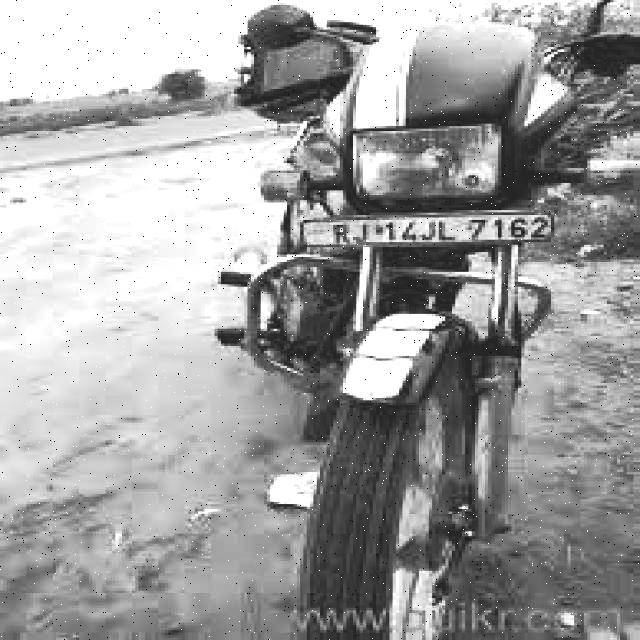Bike: (191, 5, 637, 640)
